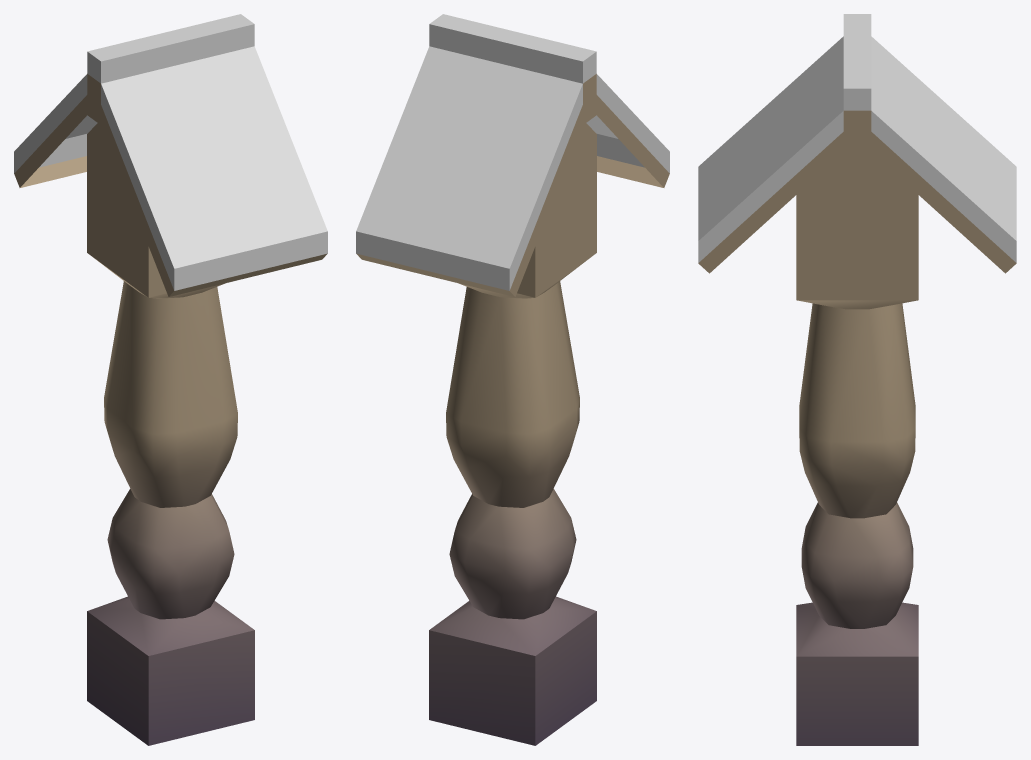
File: prop_mogila3V3.fbx
3 renders of one model, left to right at view 1: azimuth 30°, elevation 25°; view 2: azimuth 150°, elevation 25°; view 3: azimuth 270°, elevation 25°, orthographic.
Visible parts, largest first — view 1: Prop_mogila3; view 2: Prop_mogila3; view 3: Prop_mogila3.
Boxes of the visible parts, x1,y1,x2,y2 form: Prop_mogila3: (14,14,327,745); Prop_mogila3: (356,14,669,745); Prop_mogila3: (698,14,1016,745).
Size of the model in its own units: 28.86 by 121 by 52.15.
